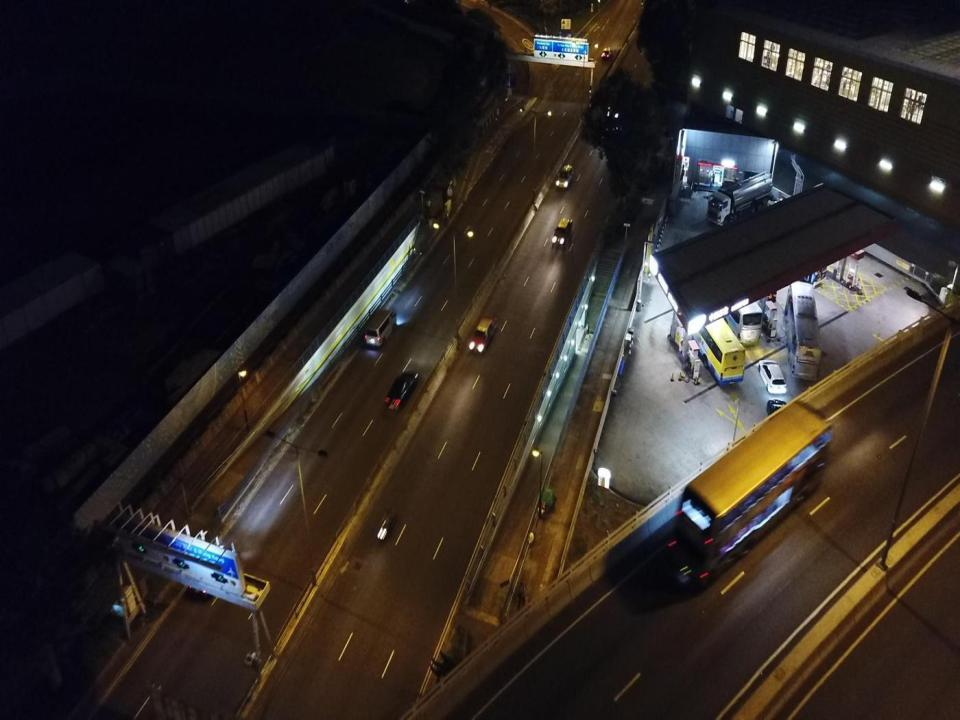bus: (670, 397, 834, 590), (676, 284, 746, 387), (708, 248, 763, 346), (756, 214, 828, 285), (784, 281, 823, 382)
car: (186, 538, 230, 600), (766, 398, 795, 450), (384, 370, 420, 408), (469, 314, 497, 354), (758, 358, 786, 395), (553, 217, 573, 244), (556, 163, 573, 189), (600, 47, 612, 60)
truck: (707, 172, 772, 227)
van: (365, 309, 397, 347)
